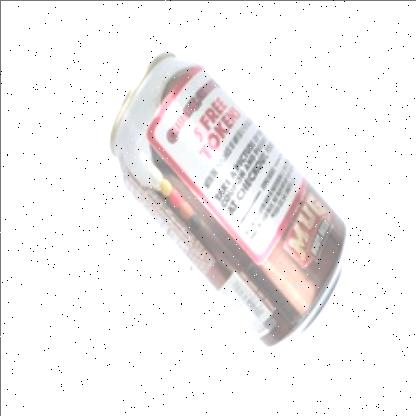Can: (109, 51, 347, 348)
